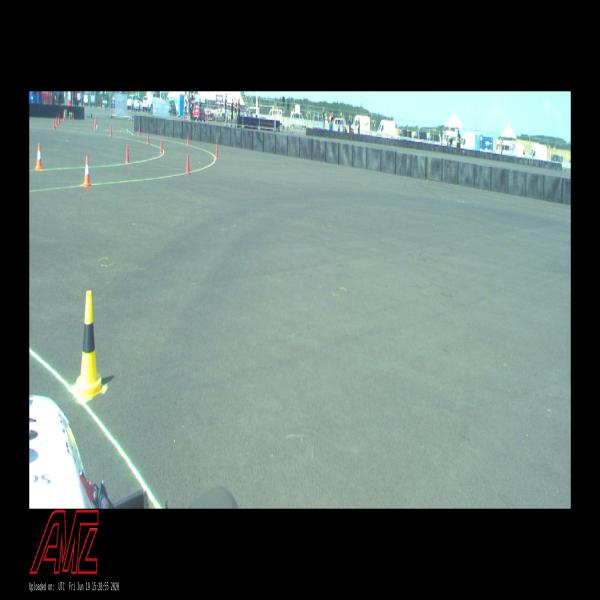orange_cone: (83, 156, 92, 187), (35, 144, 43, 170)
unknown_cone: (125, 144, 130, 163), (186, 154, 190, 174), (160, 139, 164, 154), (186, 132, 190, 146), (147, 132, 150, 144), (109, 125, 112, 137), (53, 118, 56, 130), (138, 125, 141, 136), (55, 115, 58, 126), (216, 144, 218, 160), (94, 119, 96, 130), (58, 114, 60, 124)
yellow_cone: (73, 291, 104, 402)
